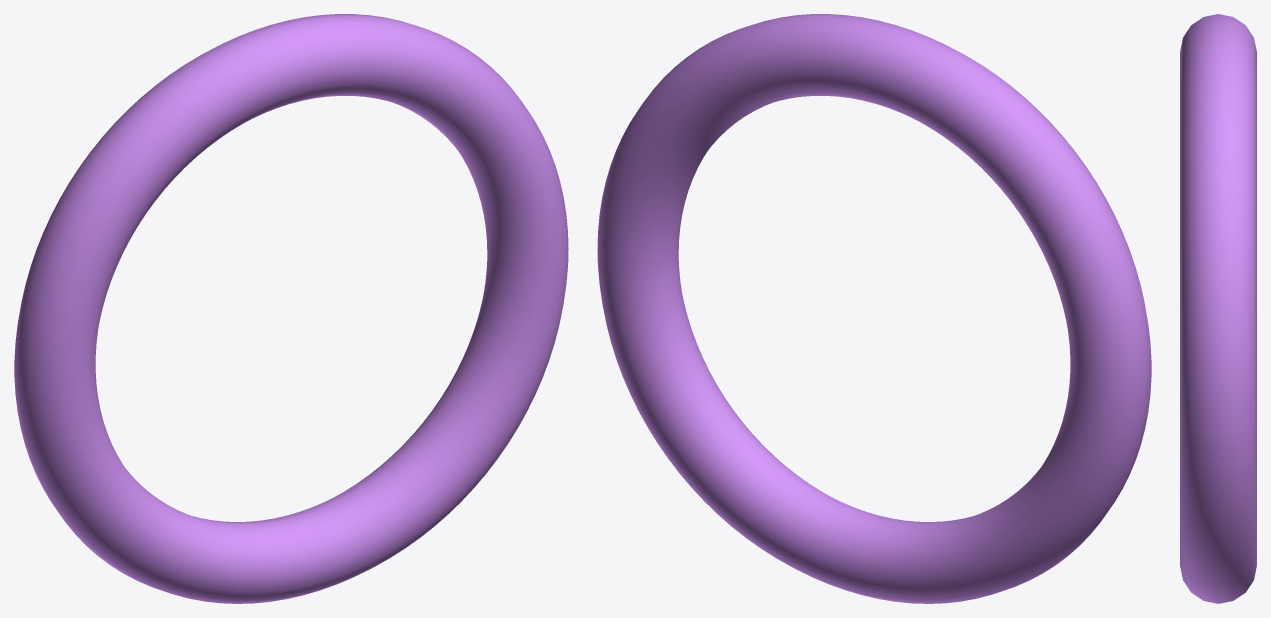
Rendered from circle-CA3RoNKX.glb.
The picture shows the model from 3 angles, left to right: view 1: azimuth 30°, elevation 25°; view 2: azimuth 150°, elevation 25°; view 3: azimuth 270°, elevation 25°; orthographic projection. The views are drawn at different scales.
Parts seen in each view (by area): view 1: R3D_circle_Body_0; view 2: R3D_circle_Body_0; view 3: R3D_circle_Body_0.
Part boxes in pixels (x1=…): R3D_circle_Body_0: x1=14, y1=14, x2=568, y2=603; R3D_circle_Body_0: x1=597, y1=14, x2=1151, y2=603; R3D_circle_Body_0: x1=1180, y1=14, x2=1256, y2=603.
Bounding box in the file's own units: 1.84 × 1.84 × 0.24.
